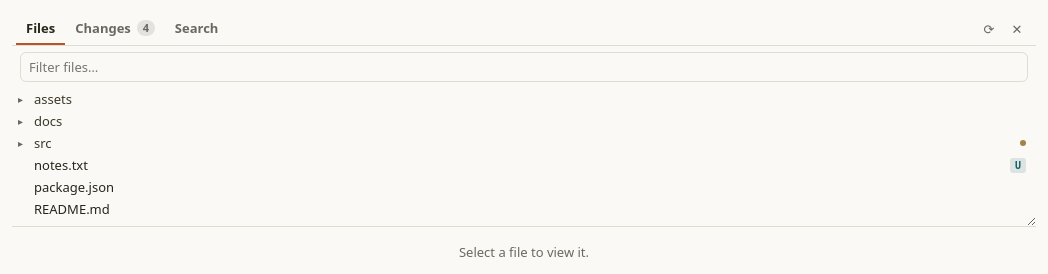
Scenario: SidePanel › narrows the tree with the filter, showing matching directories expanded
The width and height of the screenshot is (1048, 274).
Expected: the button "README.md" is shown, 12,198 -> 1036,220
Type "FORMAT" into the field labelled "Filter files" at (524, 67), box 20,52 -> 1028,82
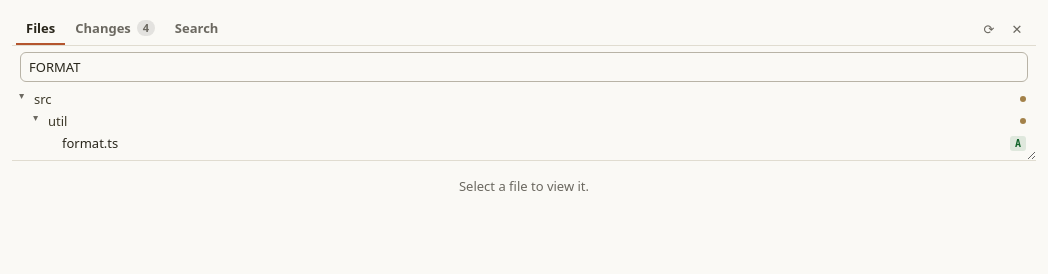
Now the button "README.md" is gone
Type "zzz" into the field named "Filter files" at (524, 67), box 20,52 -> 1028,82
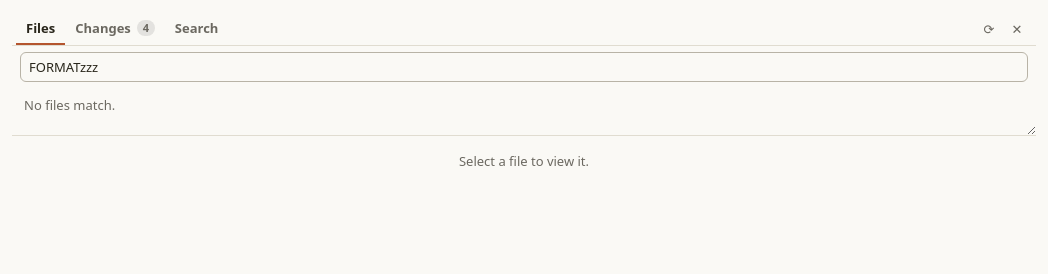
Now the text "No files match." is shown, box 24,96 -> 115,114
